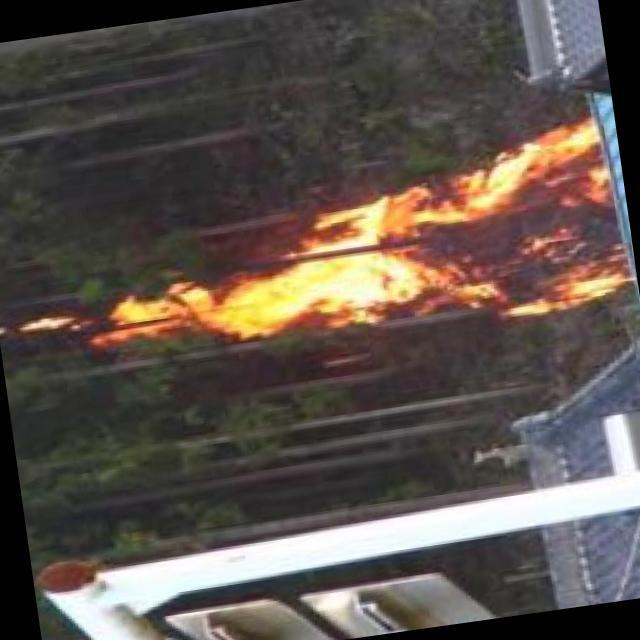Fire: (94, 120, 633, 372)
